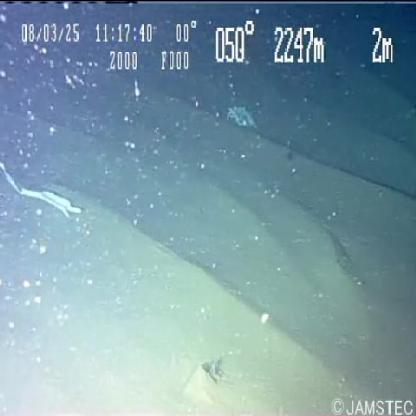Rác: (0, 158, 84, 224)
